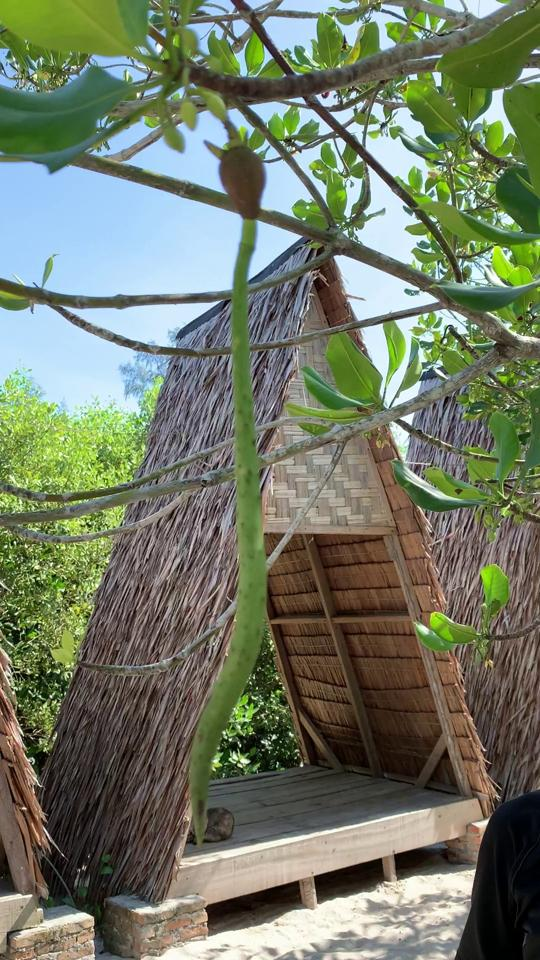setengah matang: (175, 115, 286, 862)
